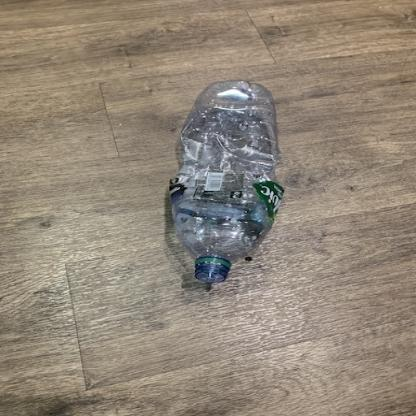trash: (167, 78, 283, 288)
